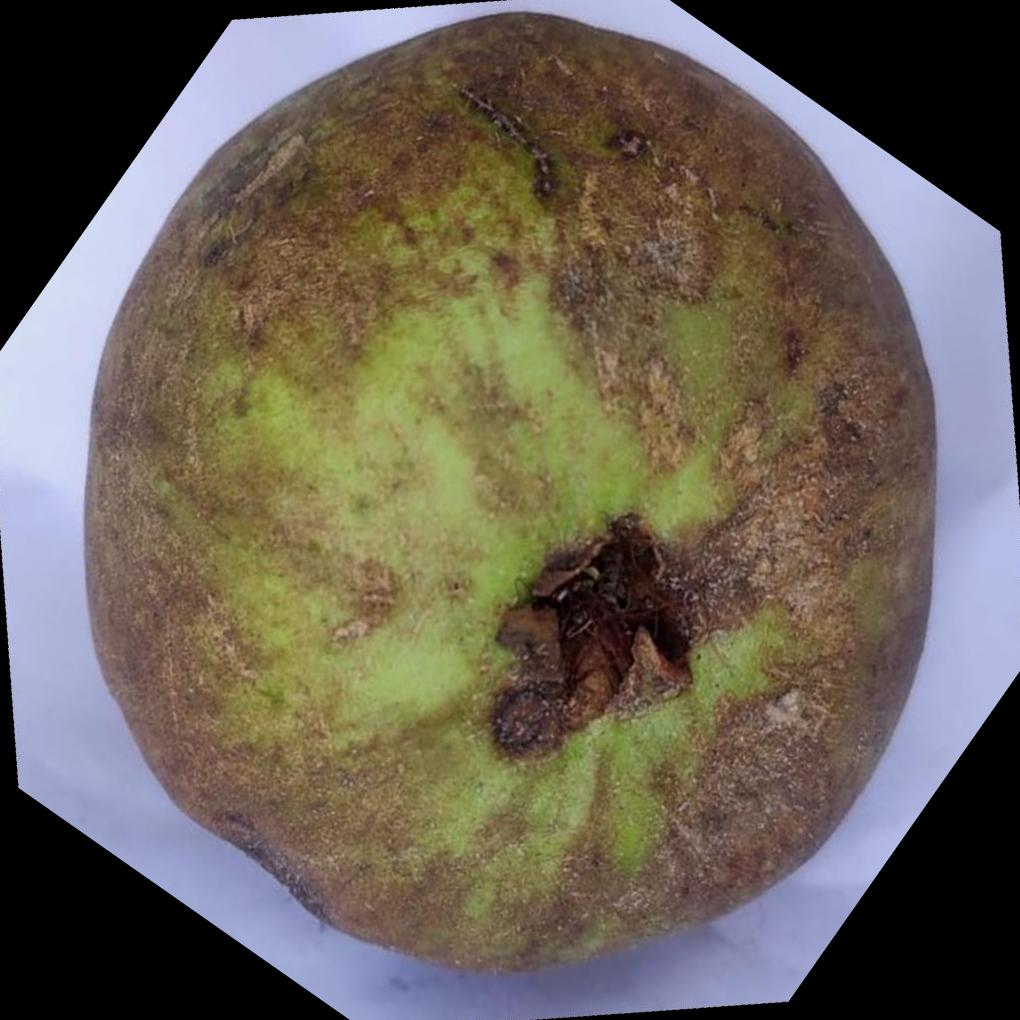FreshOrange: (84, 6, 943, 974)
